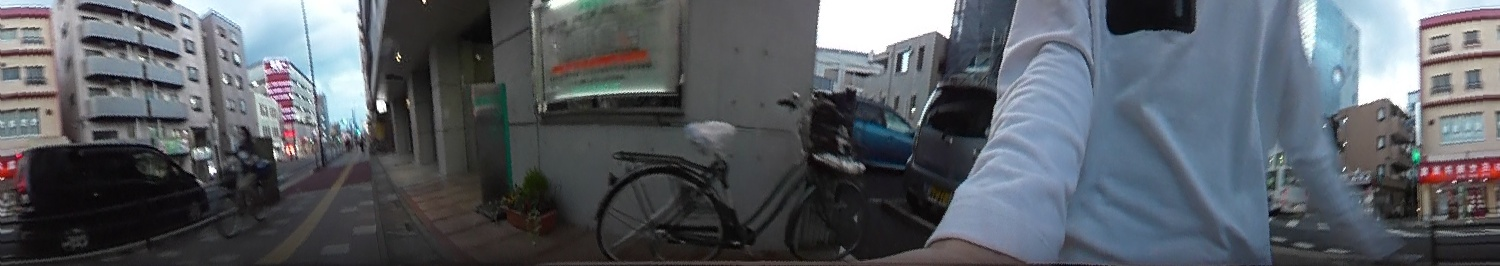difficult_person: (357, 133, 367, 155), (342, 135, 352, 152)
person: (215, 125, 270, 211)
